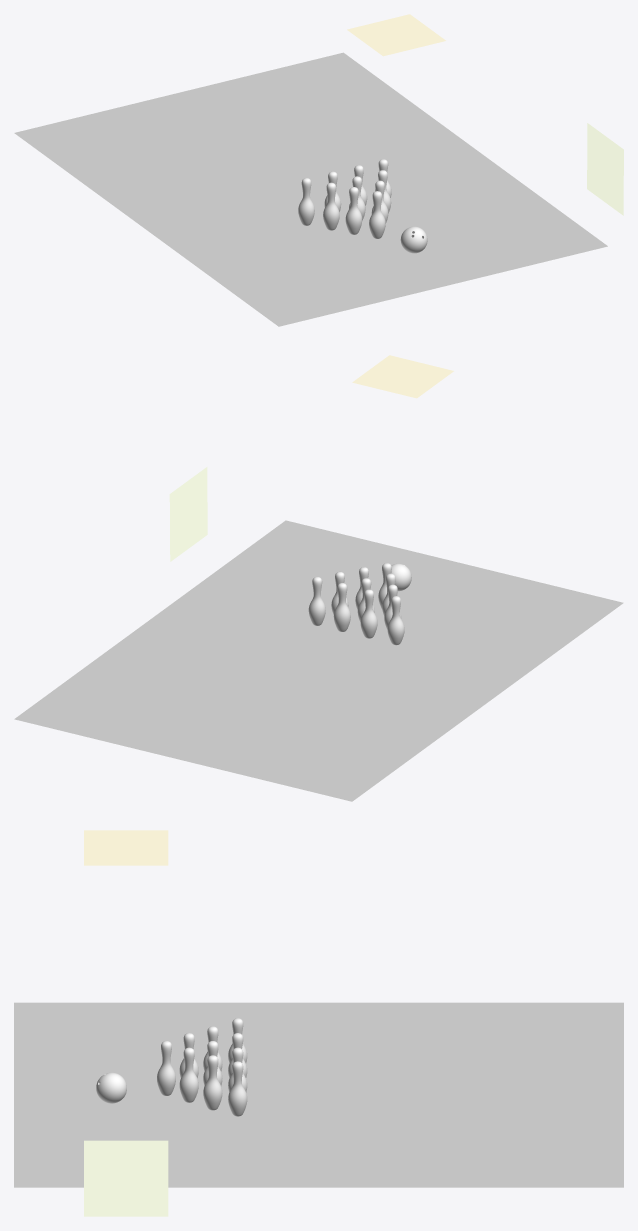
File: Bowling_ball.glb
3 views of the same model, one above another, from view 1: azimuth 30°, elevation 25°; view 2: azimuth 150°, elevation 25°; view 3: azimuth 270°, elevation 25° (orthographic). The views are drawn at different scales.
Parts seen in each view (by area): view 1: Floor, Light1, Light2, Bowling Ball, Pin5, Pin2, Pin1, Pin9; view 2: Floor, Light1, Light2; view 3: Floor, Light1, Light2, Bowling Ball, Pin6, Pin3, Pin10, Pin1.
Part boxes in pixels (bbox=[...]): Floor: bbox=[14, 52, 607, 326]; Light1: bbox=[587, 123, 623, 215]; Light2: bbox=[347, 14, 445, 56]; Bowling Ball: bbox=[400, 226, 427, 253]; Pin5: bbox=[323, 182, 339, 230]; Pin2: bbox=[345, 187, 362, 234]; Pin1: bbox=[369, 191, 385, 238]; Pin9: bbox=[298, 178, 314, 225]; Floor: bbox=[14, 520, 623, 801]; Light1: bbox=[169, 467, 207, 561]; Light2: bbox=[352, 355, 453, 398]; Floor: bbox=[14, 1002, 623, 1187]; Light1: bbox=[84, 1140, 168, 1216]; Light2: bbox=[84, 830, 168, 865]; Bowling Ball: bbox=[96, 1072, 126, 1103]; Pin6: bbox=[203, 1055, 222, 1110]; Pin3: bbox=[179, 1047, 198, 1102]; Pin10: bbox=[228, 1061, 247, 1116]; Pin1: bbox=[157, 1041, 175, 1095].
Size of the model in its own units: 32.19 by 17.87 by 39.31.
